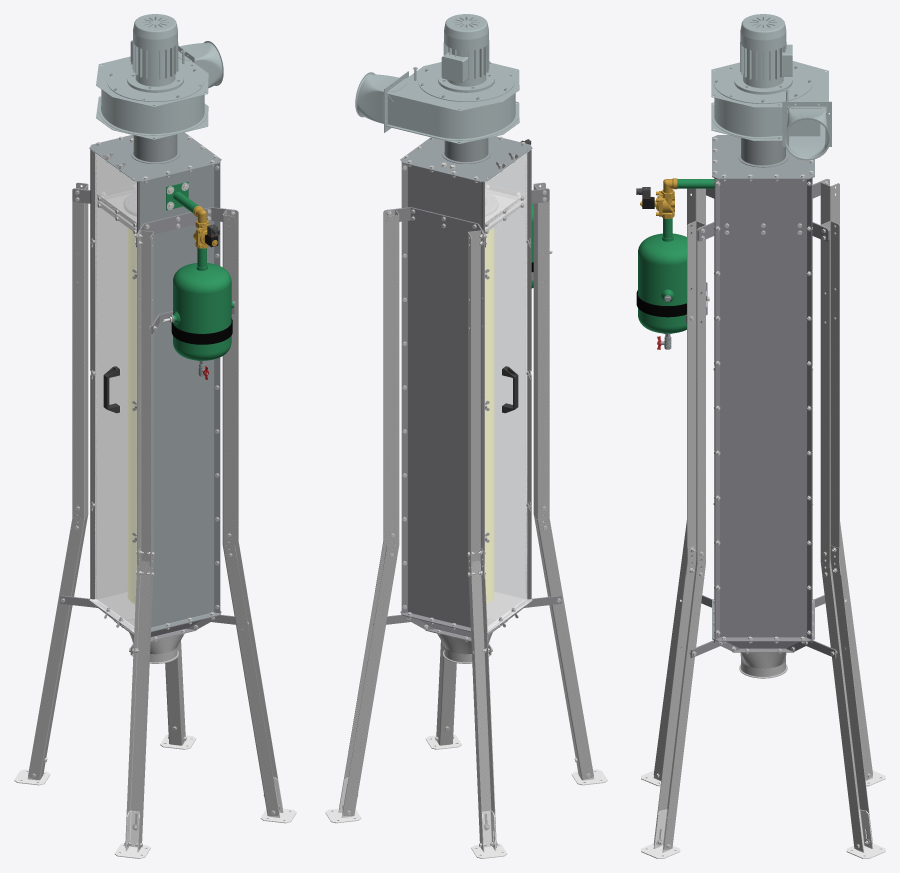
Rendered from JET-Filter_NJF2.glb.
3 renders of one model, left to right at view 1: azimuth 30°, elevation 25°; view 2: azimuth 150°, elevation 25°; view 3: azimuth 270°, elevation 25°, orthographic. The views are drawn at different scales.
Parts seen in each view (by area): view 1: Volumenkörper1 (×16), Volumenkörper2 (×4); view 2: Volumenkörper1 (×13), Volumenkörper2 (×4); view 3: Volumenkörper1 (×11), Volumenkörper2 (×4).
Part boxes in pixels (left/top/right/bottom): Volumenkörper1 (×16): left=89, top=14, right=237, bottom=663; Volumenkörper2 (×4): left=28, top=182, right=282, bottom=849; Volumenkörper1 (×13): left=355, top=14, right=532, bottom=663; Volumenkörper2 (×4): left=339, top=182, right=593, bottom=849; Volumenkörper1 (×11): left=636, top=14, right=831, bottom=678; Volumenkörper2 (×4): left=653, top=179, right=872, bottom=850.
Size of the model in its own units: 0.7258 by 3 by 0.8563.
39 materials, 2 textured.
